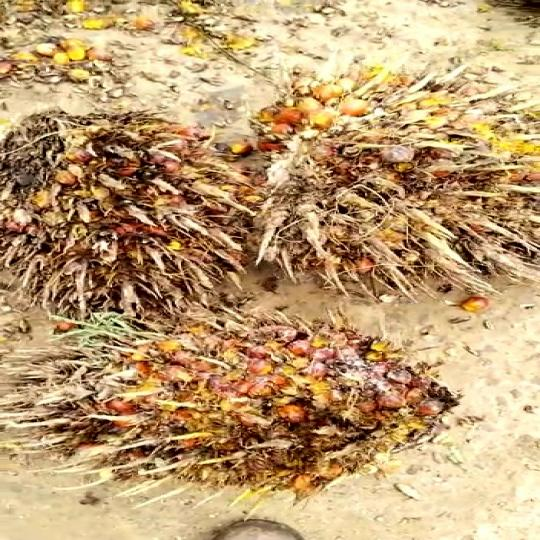terlalu masak: (0, 318, 459, 506), (245, 76, 540, 299), (0, 109, 255, 324)
